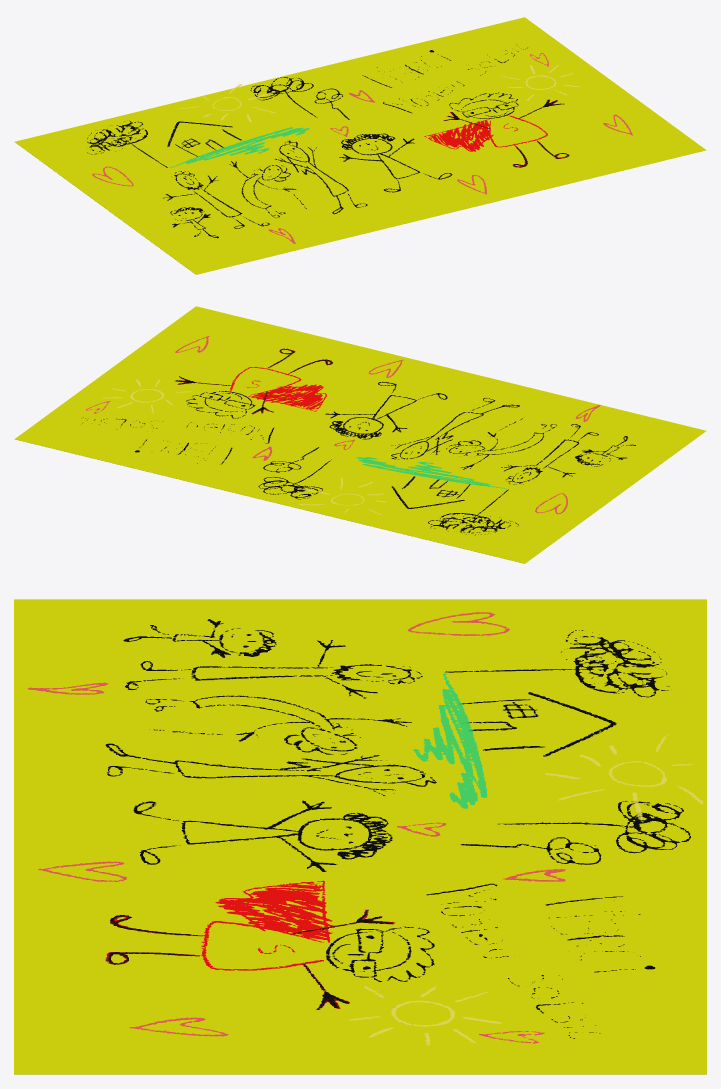
Rendered from asset_objet_dessin_enfant_test.fbx.
3 renders of one model, top to bottom at view 1: azimuth 30°, elevation 25°; view 2: azimuth 150°, elevation 25°; view 3: azimuth 270°, elevation 25°, orthographic. The views are drawn at different scales.
Visible parts, largest first — view 1: feuille blanche, line; view 2: feuille blanche, line; view 3: feuille blanche, line.
Part boxes in pixels (x1=…): feuille blanche: x1=14, y1=17, x2=706, y2=274; line: x1=87, y1=45, x2=632, y2=243; feuille blanche: x1=14, y1=306, x2=706, y2=563; line: x1=81, y1=336, x2=635, y2=535; feuille blanche: x1=14, y1=599, x2=706, y2=1074; line: x1=27, y1=612, x2=703, y2=1045.
Bounding box in the file's own units: 54.63 × 0.3436 × 33.58.
